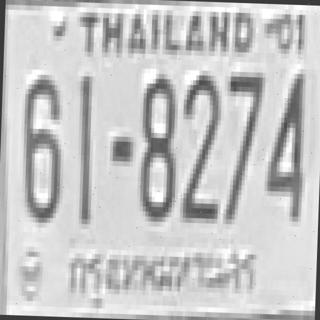N01: (74, 71, 94, 219)
N02: (180, 70, 219, 218)
N04: (264, 67, 306, 216)
N06: (18, 69, 61, 218)
N07: (223, 66, 263, 220)
N08: (136, 70, 176, 214)
P04: (58, 230, 261, 319)
